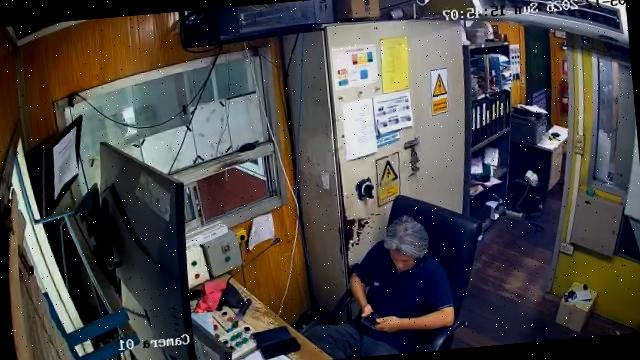Head: (381, 215, 430, 275)
People: (297, 211, 460, 360)
Phone: (259, 337, 301, 359), (360, 310, 383, 328)
